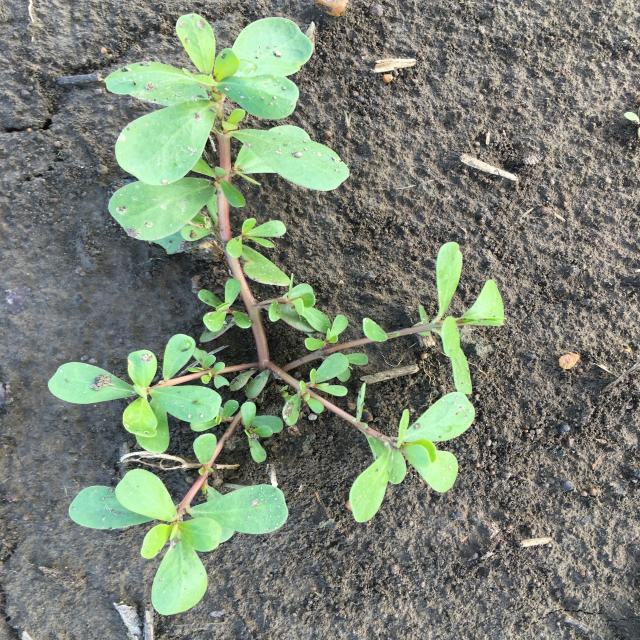Purslane: (48, 13, 506, 616)
